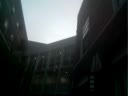window: (101, 59, 113, 81), (80, 64, 88, 81)
